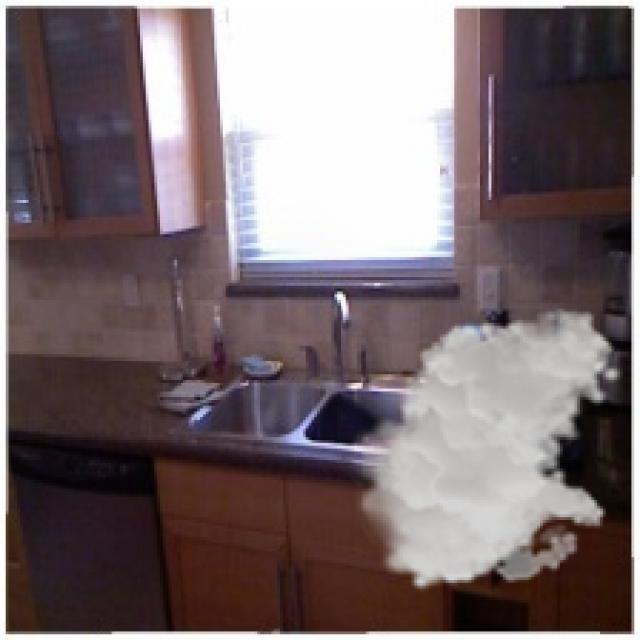Smoke: (346, 308, 623, 592)
